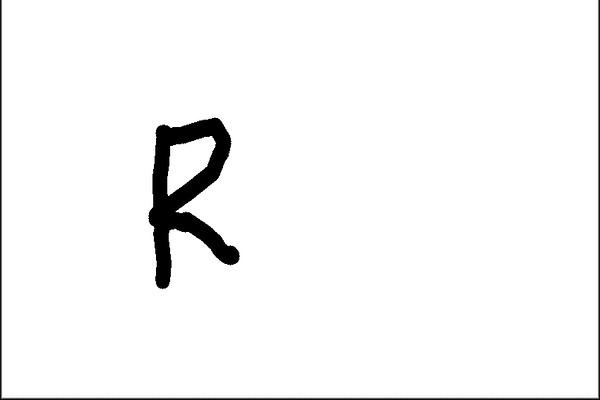R: (140, 110, 252, 294)
